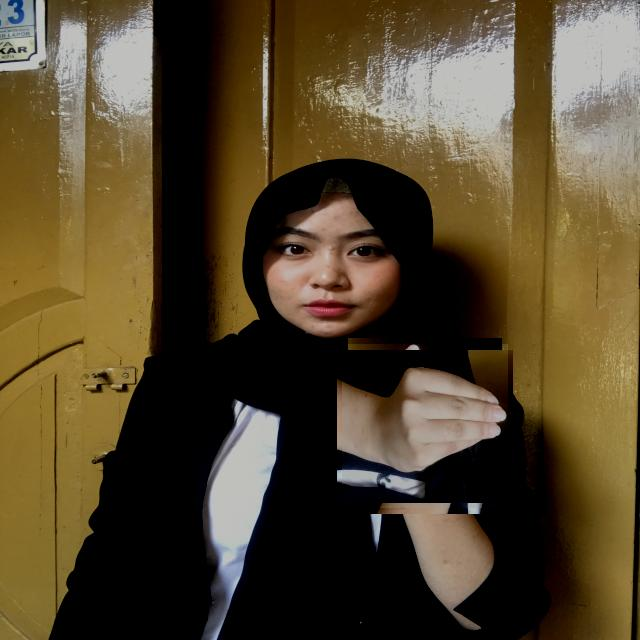kapan: (342, 344, 508, 508)
